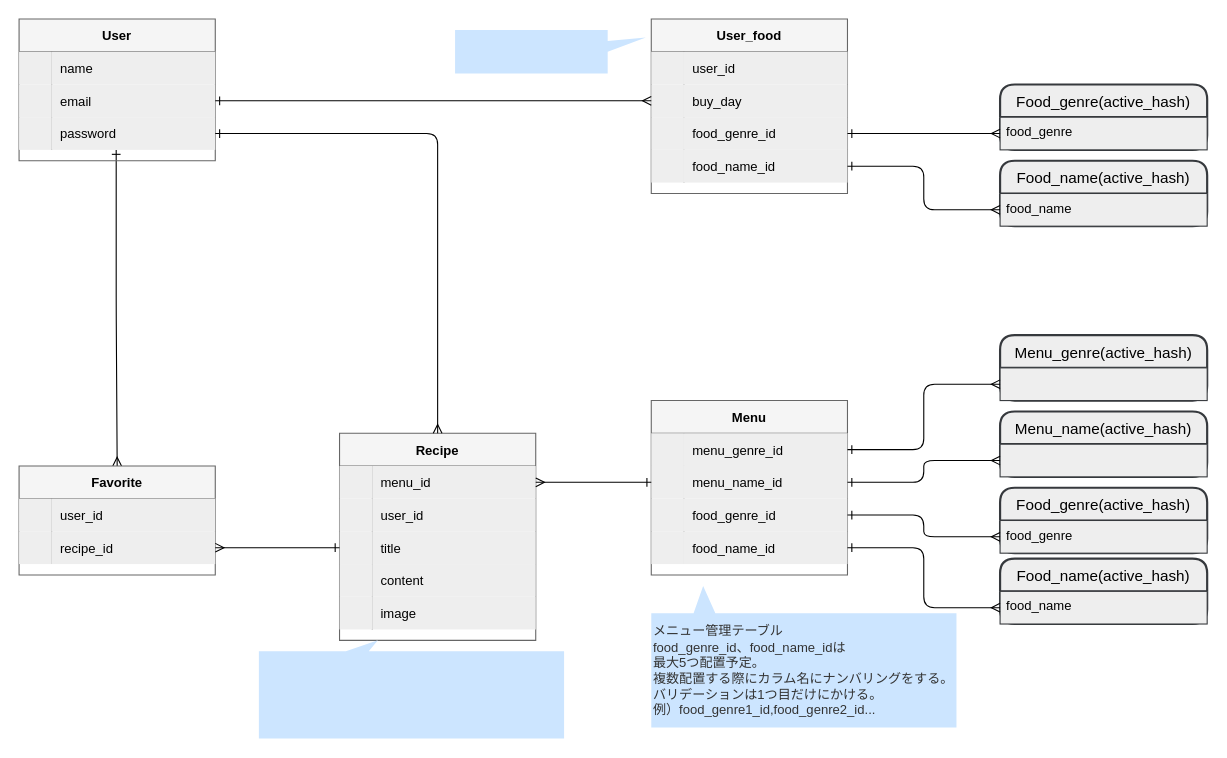
Image size: 1227x758. Some labels were removed from this diagram. Each missing label, with the centre of its shape:
menu_genre: the point at 1103,384
menu_name: the point at 1103,460
レシピテーブル Formオブジェクトを使用して、MenuテーブルとRecipeテーブルに情報を保存する。: the point at 411,689
食材管理テーブル: the point at 550,51
